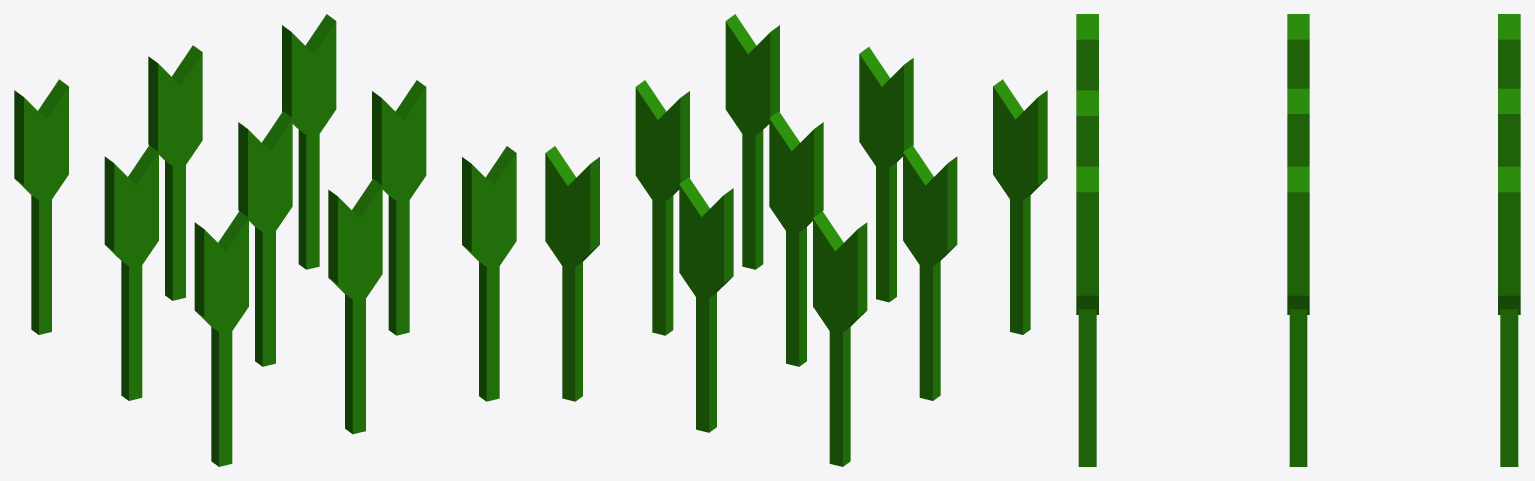
File: Wheat_Green (6).fbx
3 renders of one model, left to right at view 1: azimuth 30°, elevation 25°; view 2: azimuth 150°, elevation 25°; view 3: azimuth 270°, elevation 25°, orthographic. The views are drawn at different scales.
Parts seen in each view (by area): view 1: Cube; view 2: Cube; view 3: Cube.
Boxes of the visible parts, bbox=[...] form: Cube: bbox=[14, 14, 516, 466]; Cube: bbox=[545, 14, 1047, 466]; Cube: bbox=[1076, 14, 1520, 466].
Bounding box in the file's own units: 140 × 105 × 148.
